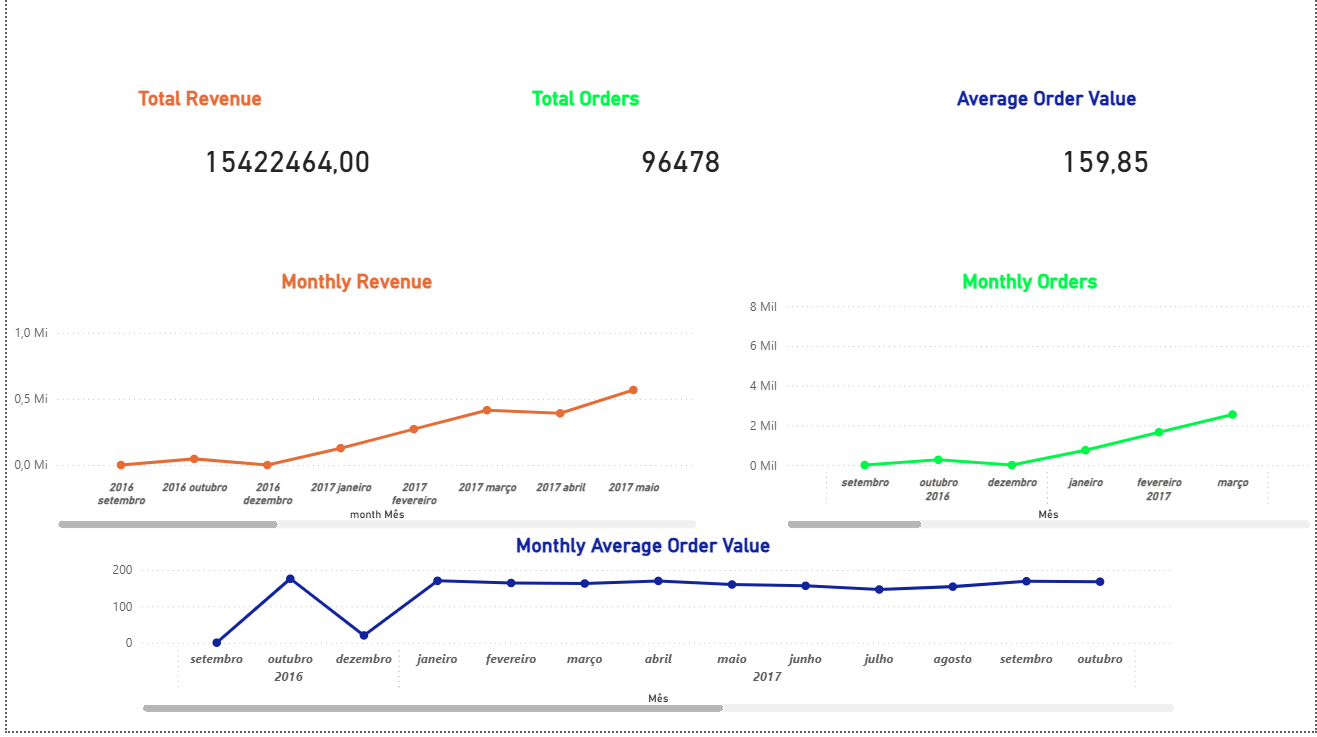

The page's visual inventory and layout, read from the dashboard file:
{"tool":"powerbi","page":{"name":"Dashboard","canvas":[1280,720],"ordinal":0},"visuals":[{"type":"card","title":"Total Revenue","fields":{"Values":["monthly_metrics.Total Revenue"]},"box":[123.5,90.6,300.5,119.4],"z":0},{"type":"card","title":"Total Orders","fields":{"Values":["monthly_metrics.Total Orders"]},"box":[509.1,90.6,300.5,119.4],"z":1000},{"type":"card","title":"Average Order Value","fields":{"Values":["monthly_metrics.Avg Ticket"]},"box":[924.9,90.6,300.5,119.4],"z":2000},{"type":"lineStackedColumnComboChart","title":"Monthly Average Order Value","fields":{"Category":["monthly_metrics.month.Variation.Hierarquia de datas.Ano","monthly_metrics.month.Variation.Hierarquia de datas.Mês"],"Y2":["monthly_metrics.Avg Ticket"]},"box":[97.8,527,1049.2,179.8],"z":3000},{"type":"lineStackedColumnComboChart","title":"Monthly Revenue","fields":{"Category":["monthly_metrics.month.Variation.Hierarquia de datas.Ano","monthly_metrics.month.Variation.Hierarquia de datas.Mês"],"Y2":["monthly_metrics.Total Revenue"]},"box":[0,269,684.7,258],"z":4000},{"type":"lineStackedColumnComboChart","title":"Monthly Orders","fields":{"Y2":["monthly_metrics.Total Orders"],"Category":["monthly_metrics.month.Variation.Hierarquia de datas.Ano","monthly_metrics.month.Variation.Hierarquia de datas.Mês"]},"box":[721.8,269,558.5,258],"z":5000}]}

Visuals, with their boxes in screenshot pixels (x1, y1, x2, y2), scaled from the page's 1280x720 canvas onto the 1317x737 screenshot:
"Total Revenue" card: left=127, top=93, right=436, bottom=215
"Total Orders" card: left=524, top=93, right=833, bottom=215
"Average Order Value" card: left=952, top=93, right=1261, bottom=215
"Monthly Average Order Value" lineStackedColumnComboChart: left=101, top=539, right=1180, bottom=723
"Monthly Revenue" lineStackedColumnComboChart: left=0, top=275, right=704, bottom=539
"Monthly Orders" lineStackedColumnComboChart: left=743, top=275, right=1316, bottom=539
